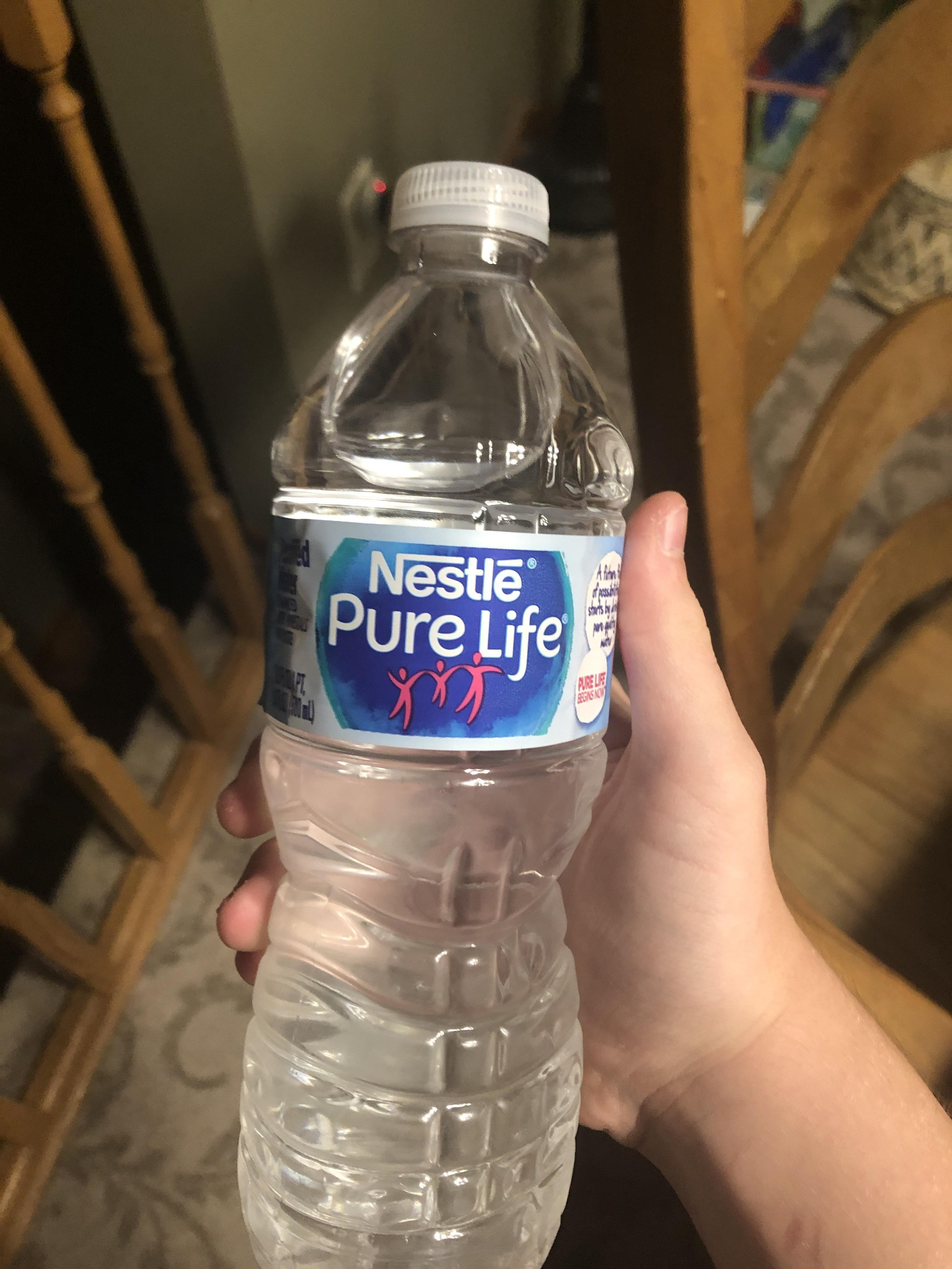bottle-plastic: (234, 158, 634, 1269)
